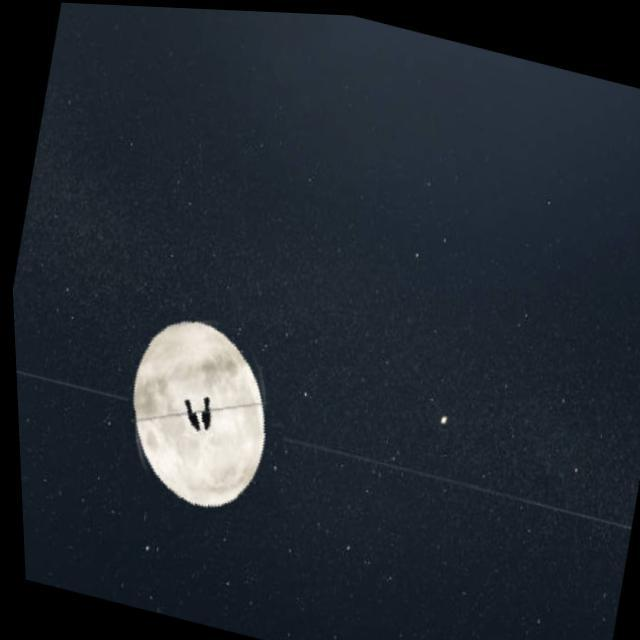moon: (91, 296, 304, 546)
